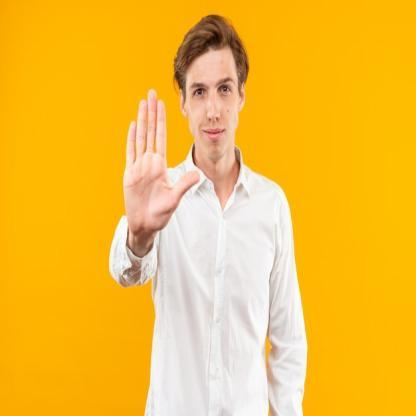stop: (122, 87, 201, 246)
